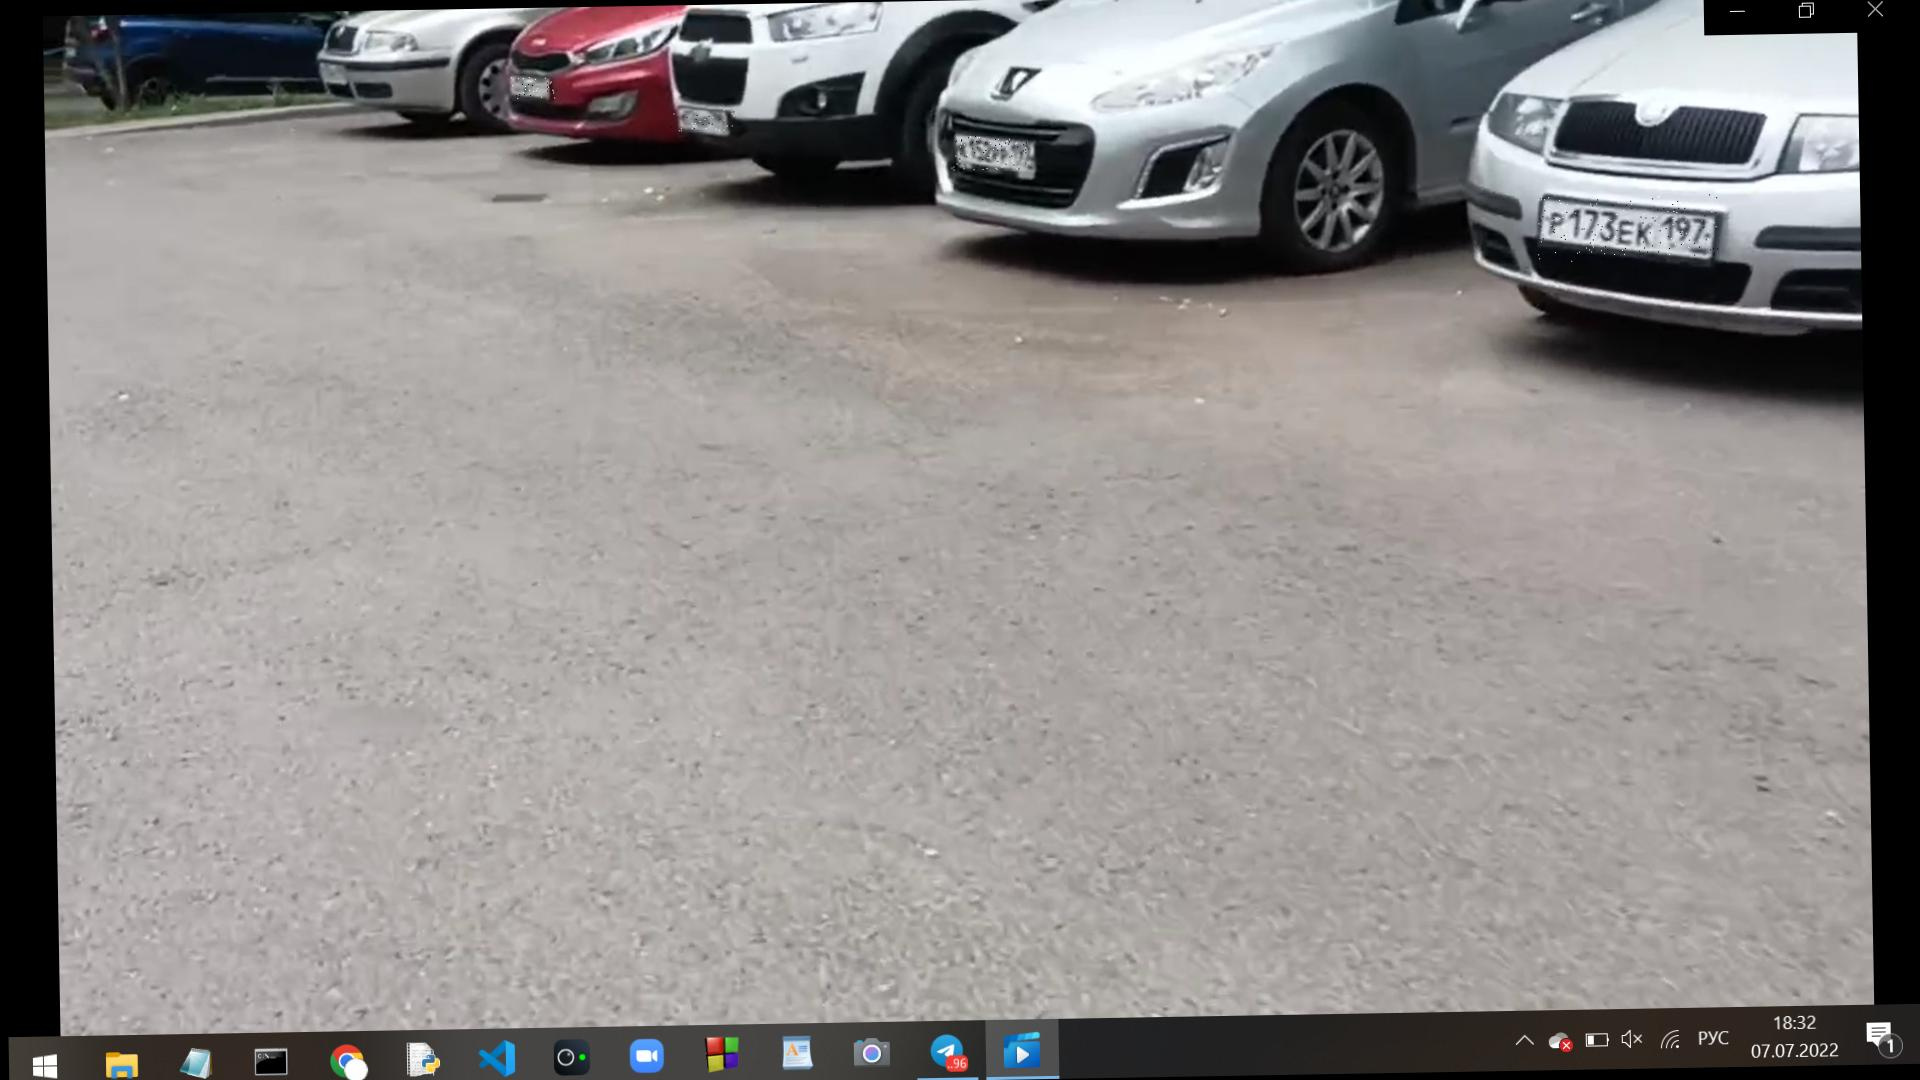plate: (1539, 195, 1720, 263), (952, 137, 1030, 172), (672, 111, 738, 133), (512, 77, 559, 100)
